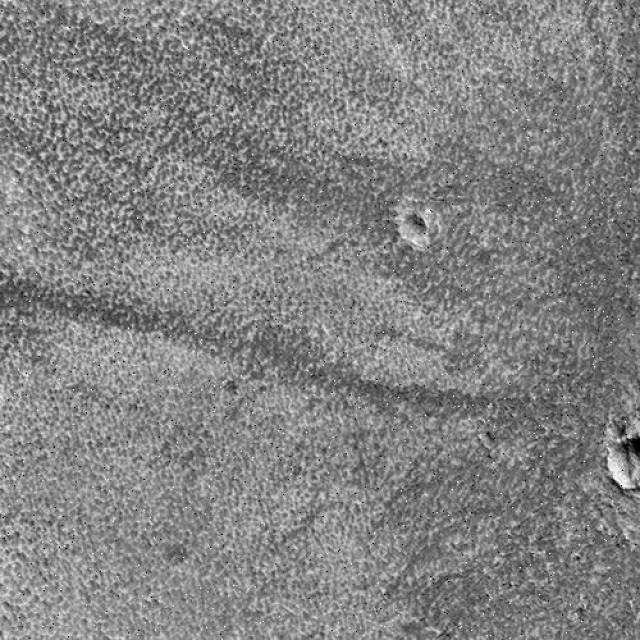crater: (539, 350, 640, 526), (382, 202, 442, 258), (615, 69, 640, 133)
